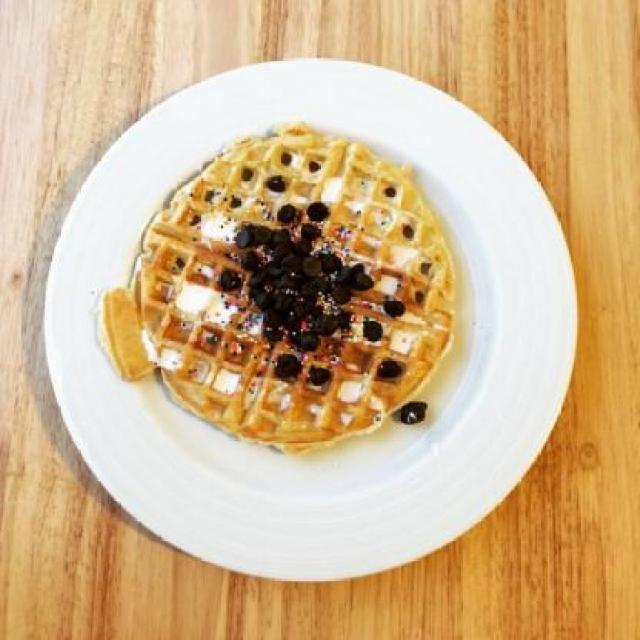Waffle: (94, 120, 452, 456)
